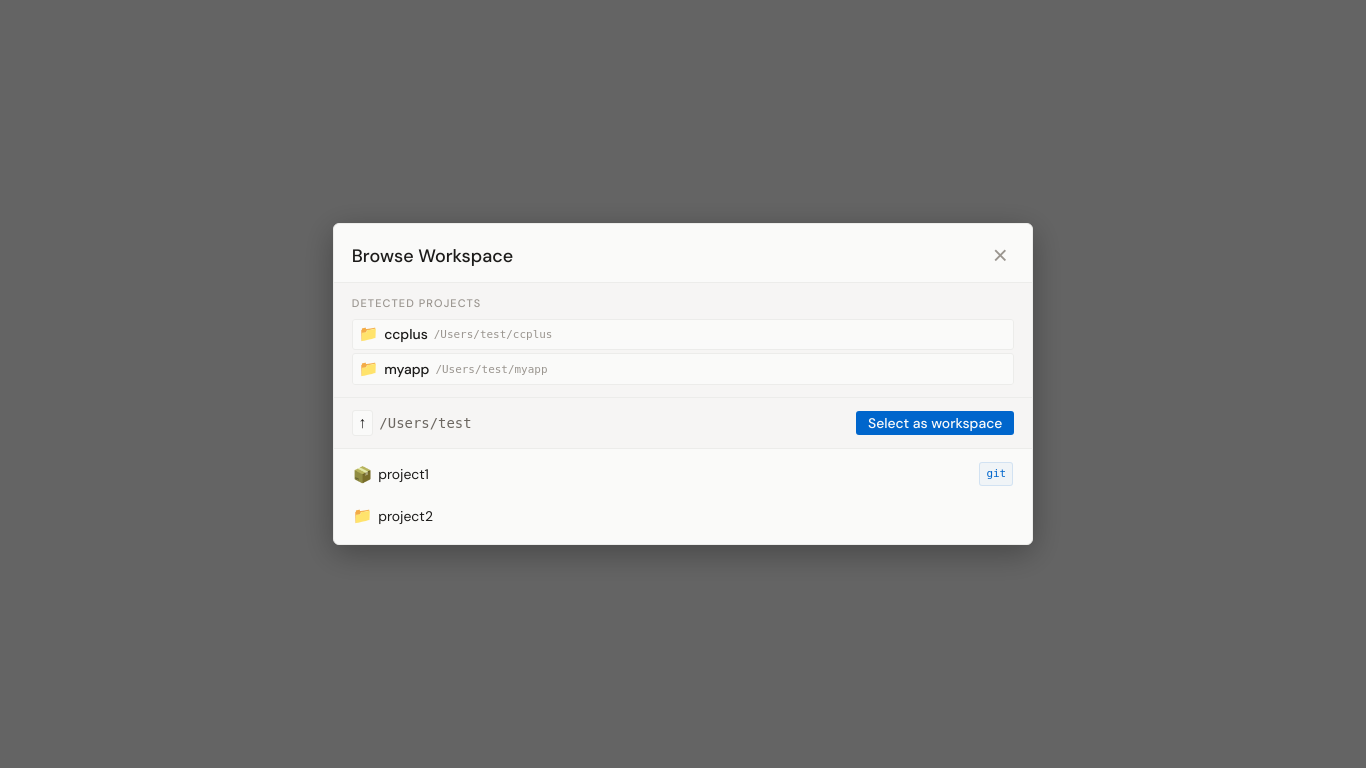
Scenario: WorkspaceBrowser › handles directory navigation by clicking folders
Click the text "project1" at coordinates (404, 474), box [378,465,429,483]
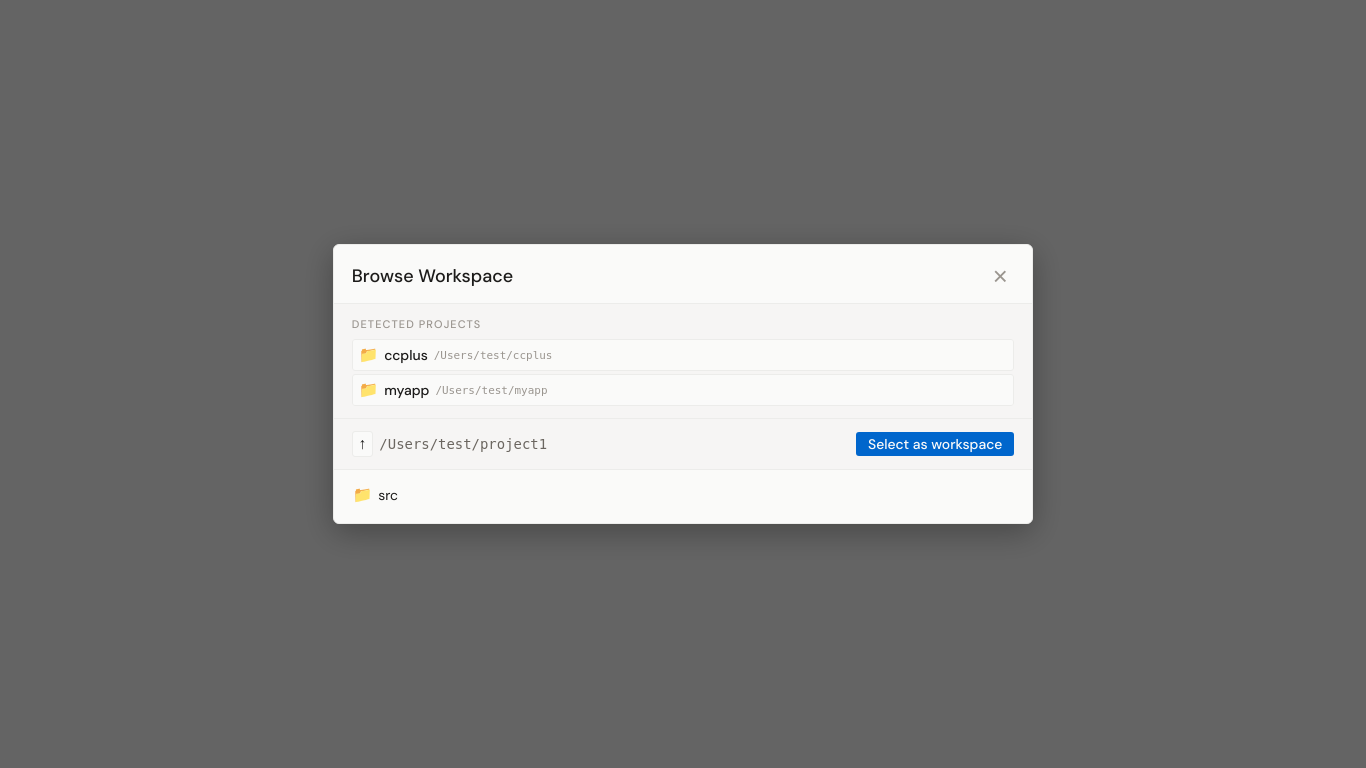
Check: the text "src" is shown, box [378,486,398,504]
